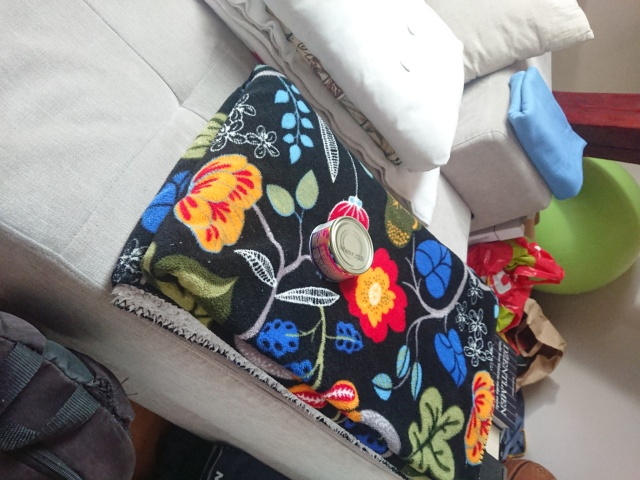Giana Tuna Salad Mexico 185g: (307, 215, 376, 284)
